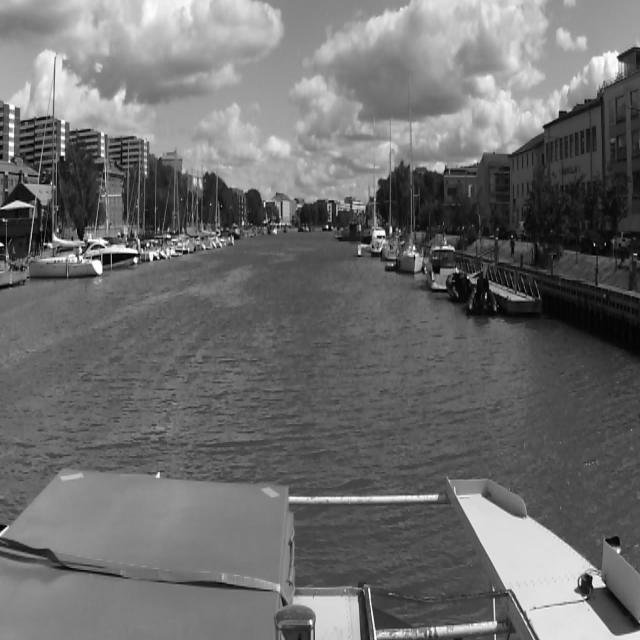ship: (23, 37, 109, 282), (404, 81, 422, 273), (371, 111, 385, 256), (470, 278, 500, 318), (429, 247, 455, 291), (331, 217, 367, 240), (336, 222, 358, 239)
